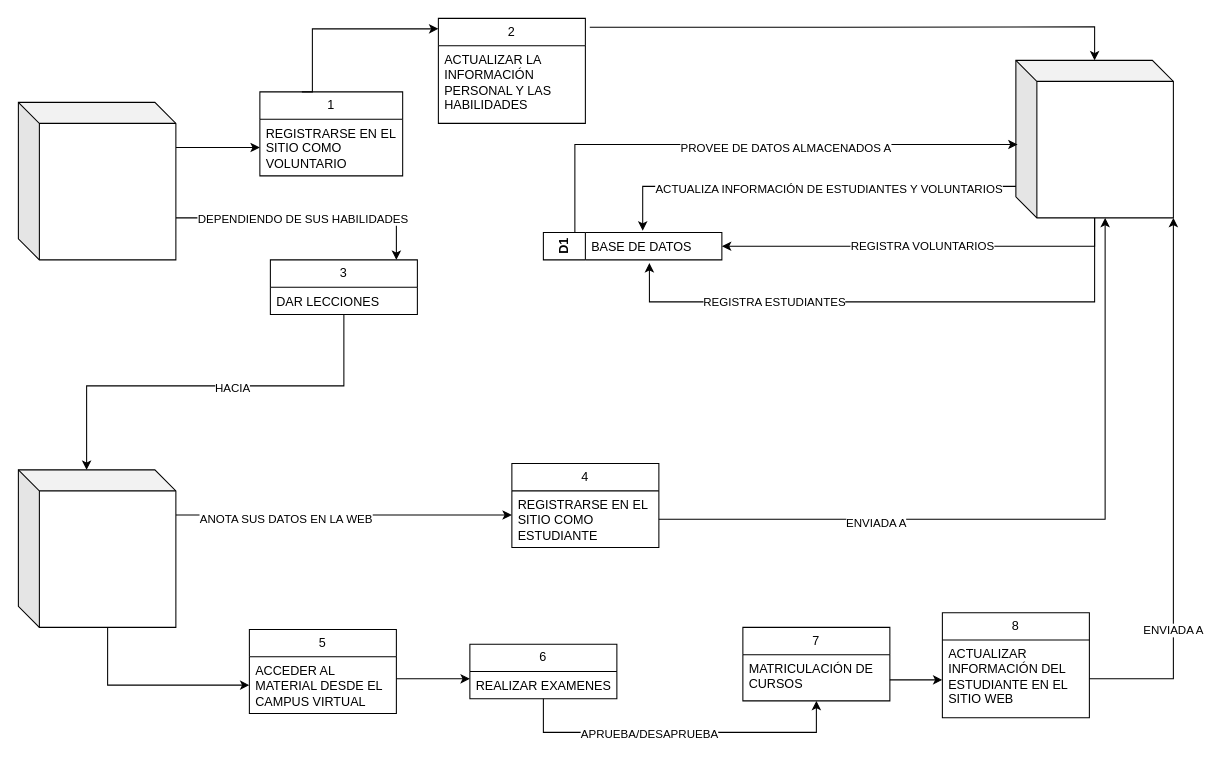
The diagram is 1221 pixels wide and 759 high, and some of its shapes have lost their labels. The centre of each missing label's shape, as x and y in pixels:
"ADMINISTRADORES" goes at point (1094, 138).
"ESTUDIANTES" goes at point (96, 548).
"VOLUNTARIOS" goes at point (96, 180).
